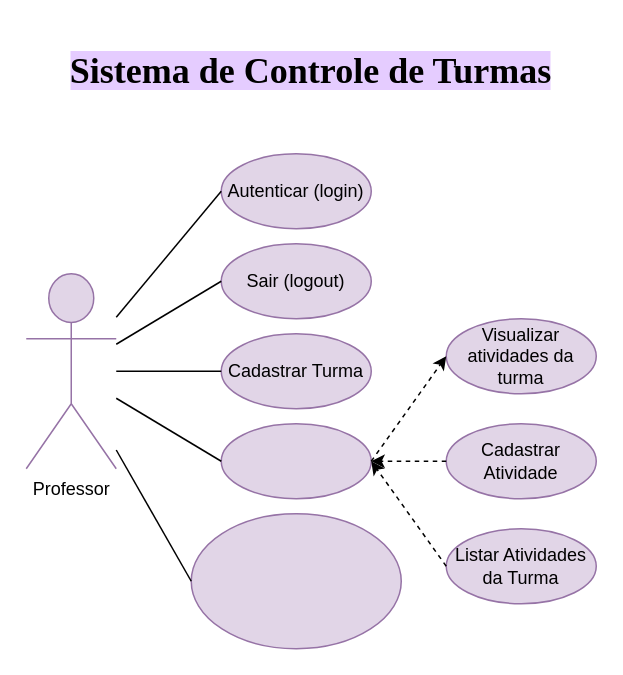
The diagram is 623 pixels wide and 675 high, and some of its shapes have lost their labels. The centre of each missing label's shape, as x and y in pixels:
Excluir Turma (Confirmação/ Regra: não excluir se houver atividades): the point at 295,580
Listar Turmas: the point at 295,460
